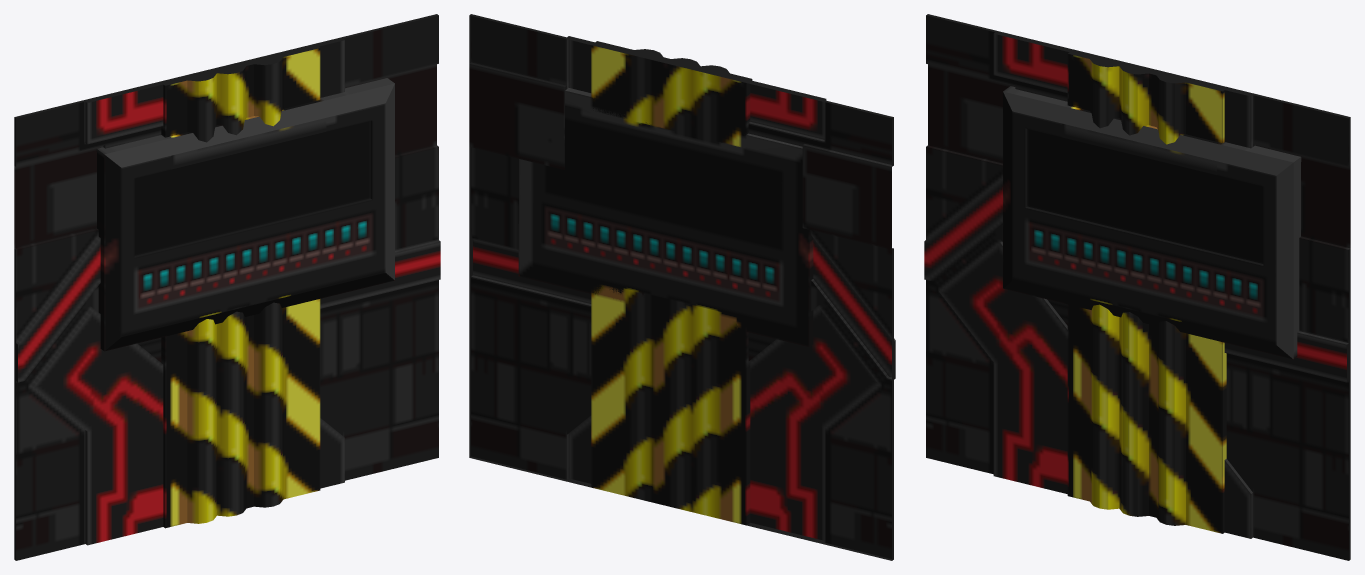
Rendered from reac2_4.fbx.
3 renders of one model, left to right at view 1: azimuth 30°, elevation 25°; view 2: azimuth 150°, elevation 25°; view 3: azimuth 330°, elevation 25°, orthographic.
Visible parts, largest first — view 1: reac2_4, reac2_1_mesh; view 2: reac2_1_mesh, reac2_4; view 3: reac2_4, reac2_1_mesh.
Part boxes in pixels (<box>): reac2_4: <box>96,44,394,528</box>; reac2_1_mesh: <box>14,14,440,560</box>; reac2_1_mesh: <box>469,14,895,560</box>; reac2_4: <box>518,41,813,525</box>; reac2_4: <box>1003,49,1301,533</box>; reac2_1_mesh: <box>924,14,1350,560</box>.
Size of the model in its own units: 256 by 256 by 12.
